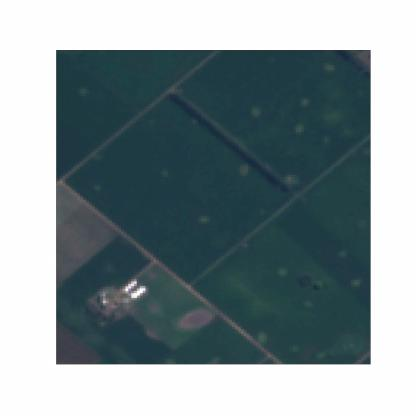silobolsa: (131, 282, 151, 302), (121, 278, 137, 294)
